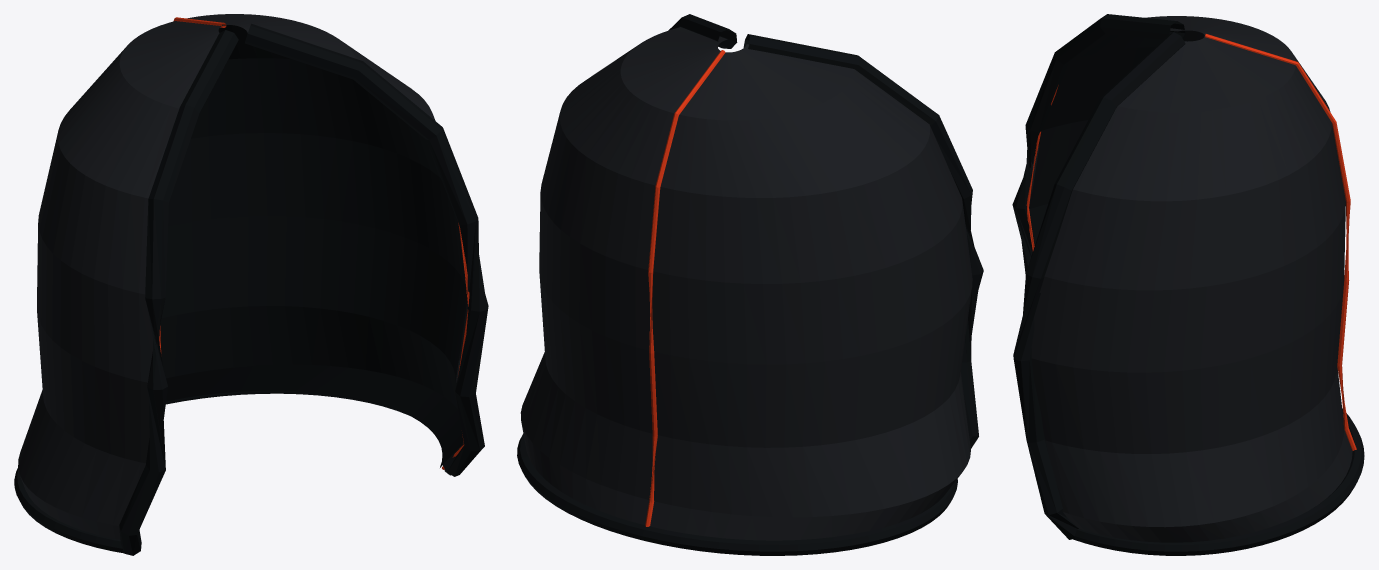
Rendered from RaisedHood.obj.
3 renders of one model, left to right at view 1: azimuth 30°, elevation 25°; view 2: azimuth 150°, elevation 25°; view 3: azimuth 270°, elevation 25°, orthographic. The views are drawn at different scales.
Parts seen in each view (by area): view 1: hood_inner_lining, hood_outer_draped_shell, hood_opening_right, hood_opening_left, hood_collared_base; view 2: hood_outer_draped_shell, hood_collared_base, hood_opening_left, hood_back_dart_seam, hood_opening_right; view 3: hood_outer_draped_shell, hood_opening_right, hood_inner_lining, hood_opening_left, hood_collared_base, hood_back_dart_seam.
Part boxes in pixels (<box>): hood_inner_lining: <box>159,25,467,467</box>; hood_outer_draped_shell: <box>18,14,467,539</box>; hood_opening_right: <box>245,23,488,476</box>; hood_opening_left: <box>119,30,238,555</box>; hood_collared_base: <box>14,390,450,553</box>; hood_outer_draped_shell: <box>520,27,972,540</box>; hood_collared_base: <box>517,434,957,555</box>; hood_opening_left: <box>743,34,983,448</box>; hood_back_dart_seam: <box>645,50,725,526</box>; hood_opening_right: <box>668,14,737,48</box>; hood_outer_draped_shell: <box>1029,16,1352,542</box>; hood_opening_right: <box>1013,32,1185,539</box>; hood_inner_lining: <box>1029,30,1204,244</box>; hood_opening_left: <box>1012,14,1185,275</box>; hood_collared_base: <box>1073,408,1364,555</box>; hood_back_dart_seam: <box>1205,34,1356,450</box>.
Size of the model in its own units: 0.5398 by 0.555 by 0.4066.
